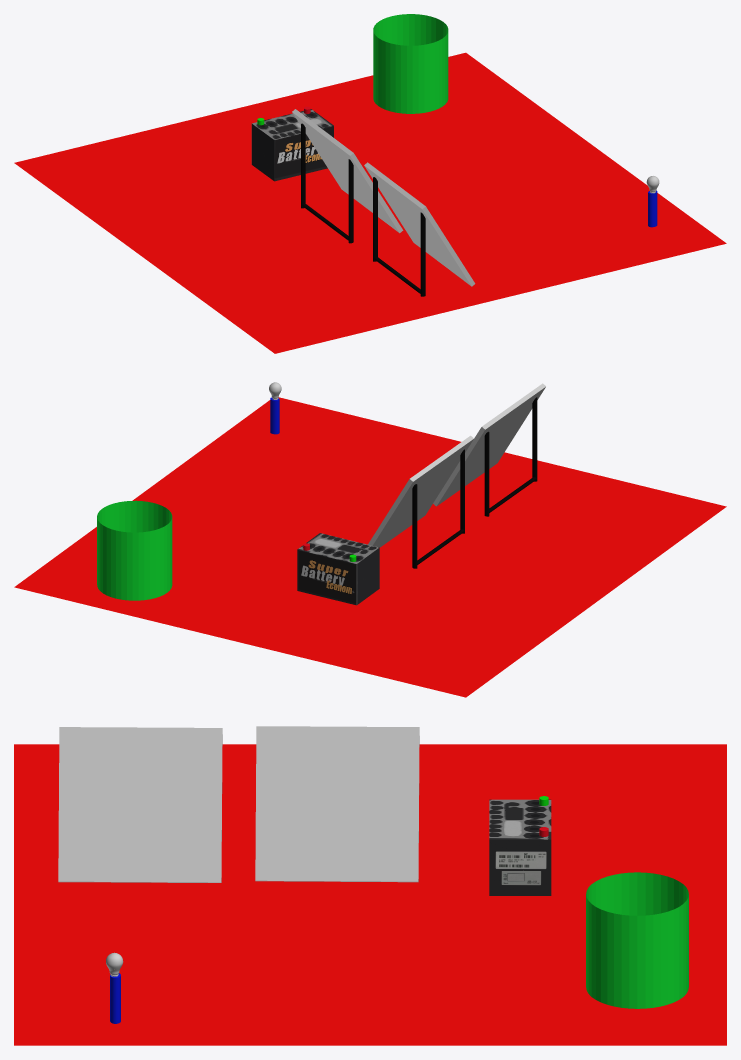
Rendered from GeneradorSolar.fbx.
The picture shows the model from 3 angles, top to bottom: view 1: azimuth 30°, elevation 25°; view 2: azimuth 150°, elevation 25°; view 3: azimuth 270°, elevation 25°; orthographic projection. The views are drawn at different scales.
Parts seen in each view (by area): view 1: Plano, Cilindro, Cilindro.007, Cilindro.001, Cilindro.003; view 2: Plano, Cilindro, Cilindro.003, Cilindro.007, Cilindro.001; view 3: Plano, Cilindro.007, Cilindro.001, Cilindro, Cilindro.003, Cilindro.004.
Boxes of the visible parts, <box> form: Plano: <box>14,52,726,353</box>; Cilindro: <box>373,14,448,113</box>; Cilindro.007: <box>364,162,475,296</box>; Cilindro.001: <box>292,109,403,243</box>; Cilindro.003: <box>251,106,333,181</box>; Plano: <box>14,397,726,697</box>; Cilindro: <box>97,500,172,600</box>; Cilindro.003: <box>297,533,379,605</box>; Cilindro.007: <box>433,383,545,516</box>; Cilindro.001: <box>368,435,473,568</box>; Plano: <box>14,744,726,1045</box>; Cilindro.007: <box>58,727,222,882</box>; Cilindro.001: <box>255,726,419,882</box>; Cilindro: <box>586,872,688,1008</box>; Cilindro.003: <box>489,796,551,895</box>; Cilindro.004: <box>110,973,120,1023</box>.
Bounding box in the file's own units: 870 × 190 × 870.
